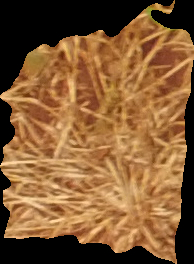soil: (1, 2, 194, 263)
